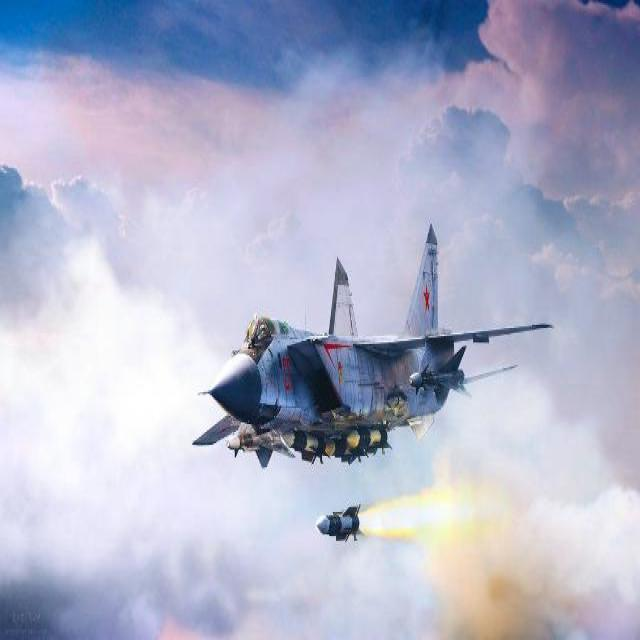missile: (407, 344, 473, 404), (316, 503, 371, 544), (282, 428, 331, 466), (343, 427, 395, 456), (221, 431, 272, 458)
